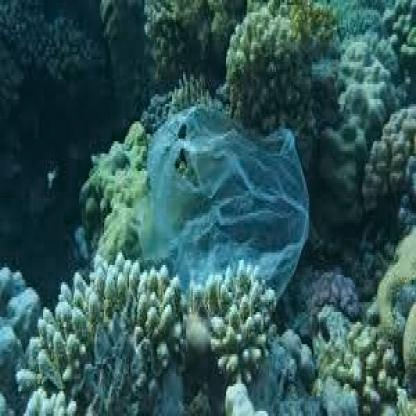pbag: (129, 89, 315, 310)
